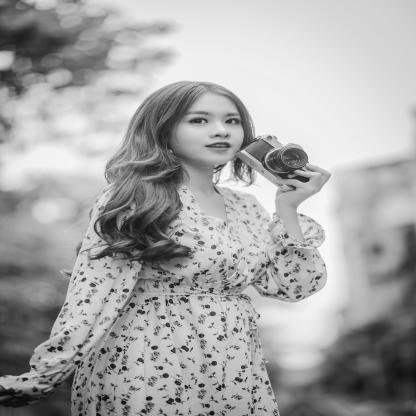Eye: (187, 116, 209, 126), (223, 117, 244, 125)
Mouth: (204, 140, 233, 152)
Nose: (208, 122, 232, 138)
